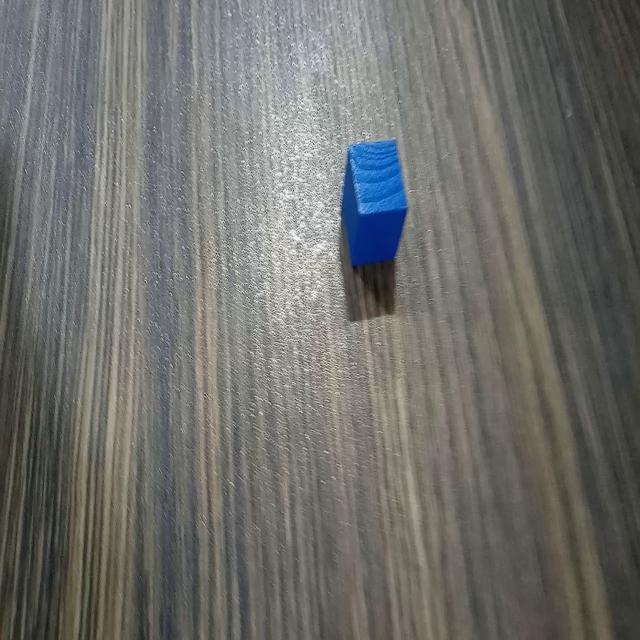cube: (340, 134, 411, 271)
